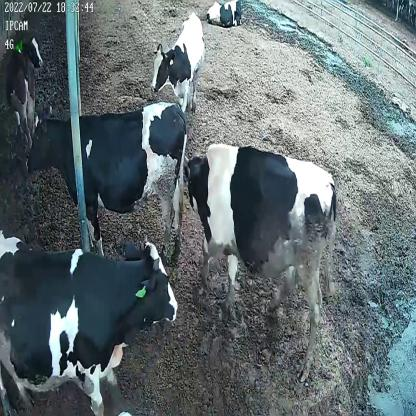cow: (182, 143, 337, 390), (0, 230, 178, 416), (27, 102, 188, 267), (150, 12, 204, 126), (205, 0, 245, 30)
